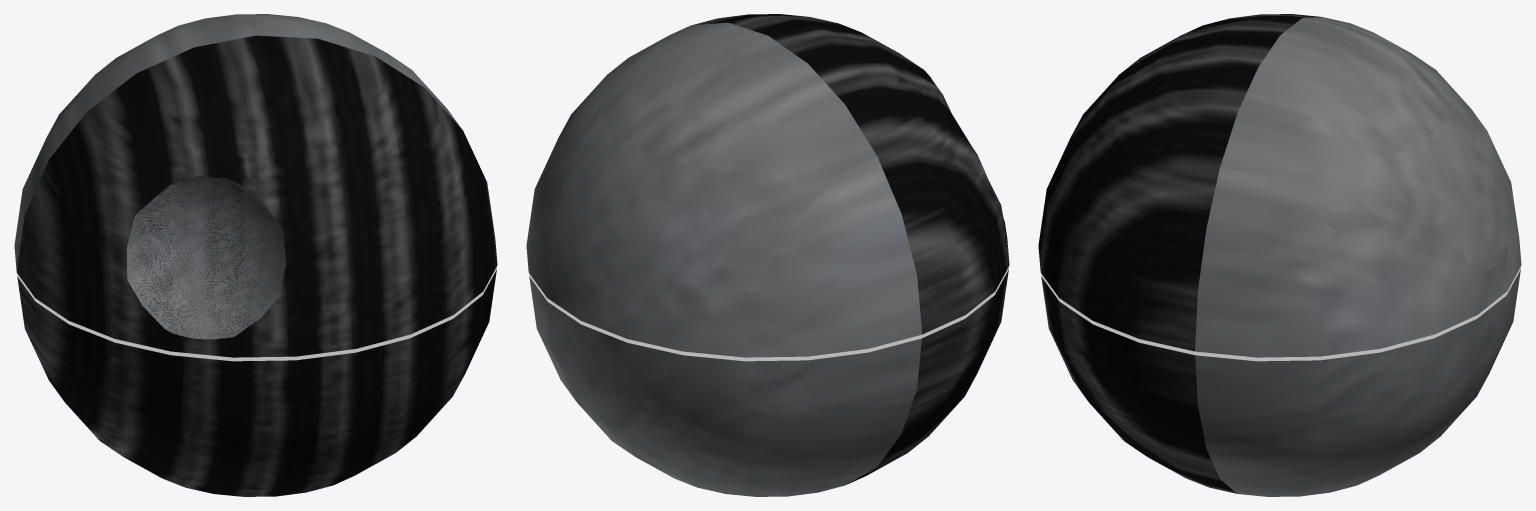
File: deathStar.dae
3 views of the same model, side by side, from view 1: azimuth 30°, elevation 25°; view 2: azimuth 150°, elevation 25°; view 3: azimuth 270°, elevation 25° (orthographic).
Visible parts, largest first — view 1: Group29; view 2: Group29; view 3: Group29.
Part boxes in pixels (x1,y1,x2,y2): Group29: (14,14,497,496); Group29: (526,14,1009,496); Group29: (1038,14,1521,496).
Size of the model in its own units: 21995 by 21995 by 22097.
